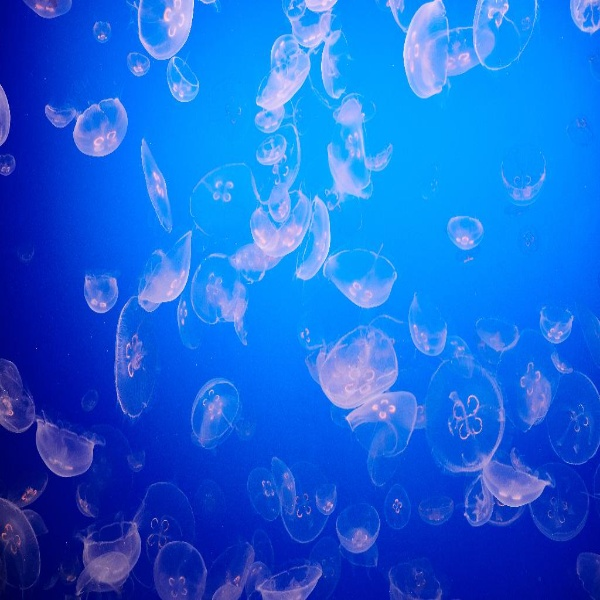Jellyfish: (0, 0, 599, 599), (64, 89, 124, 154)
